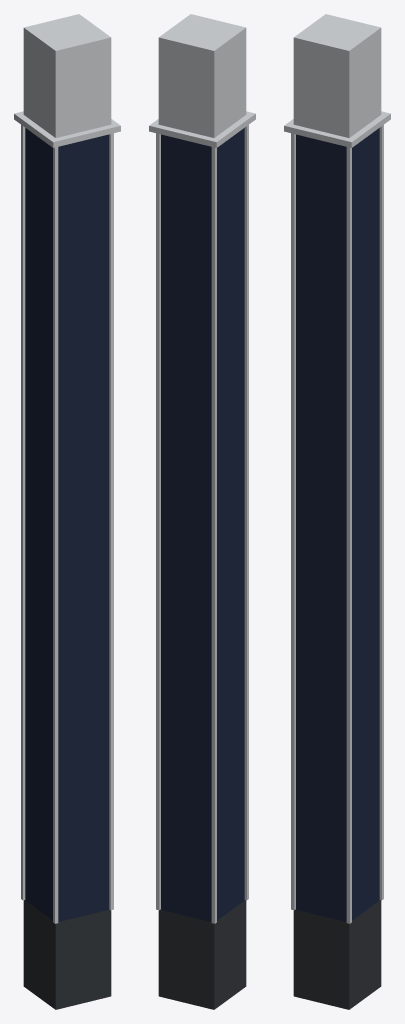
Rendered from SC_Bld_Store_Corner_Post.gltf.
The picture shows the model from 3 angles, left to right: view 1: azimuth 30°, elevation 25°; view 2: azimuth 150°, elevation 25°; view 3: azimuth 330°, elevation 25°; orthographic projection.
Visible parts, largest first — view 1: SC_Bld_Store_Corner_Post; view 2: SC_Bld_Store_Corner_Post; view 3: SC_Bld_Store_Corner_Post.
Boxes of the visible parts, x1,y1,x2,y2 form: SC_Bld_Store_Corner_Post: (14, 14, 120, 1009); SC_Bld_Store_Corner_Post: (149, 14, 255, 1009); SC_Bld_Store_Corner_Post: (284, 14, 390, 1009).
Size of the model in its own units: 0.244 by 3.3 by 0.244.
Materials: 1 (1 with a texture image).
